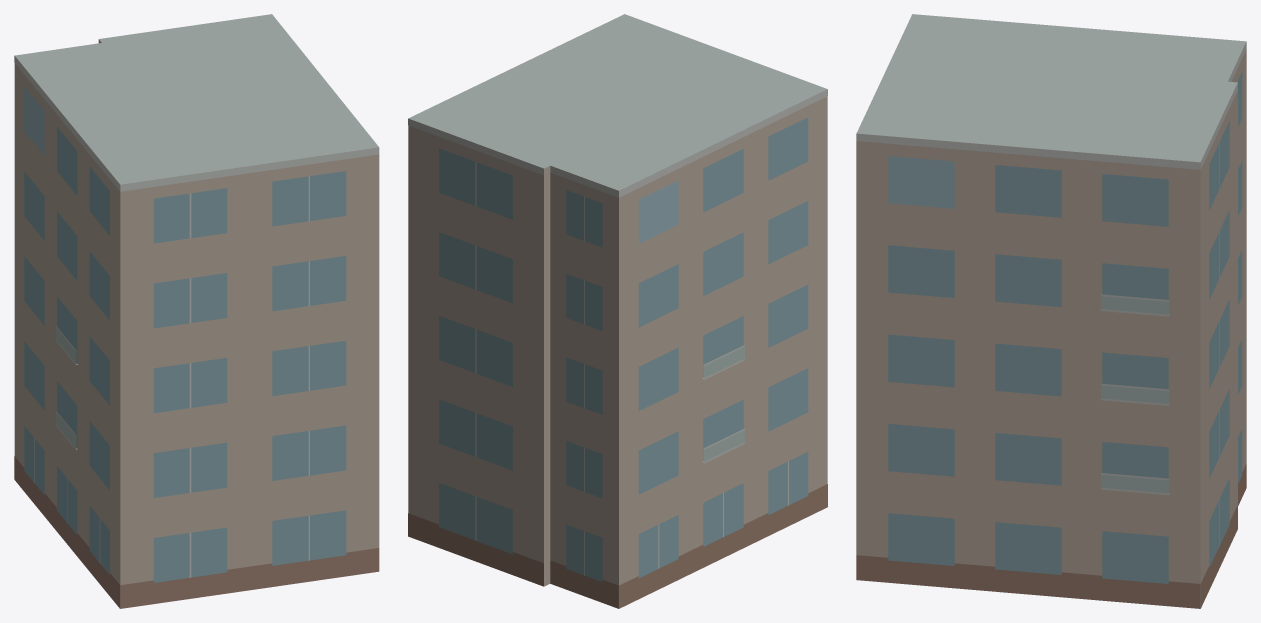
File: survey-upis-32872356.glb
3 views of the same model, side by side, from view 1: azimuth 30°, elevation 25°; view 2: azimuth 150°, elevation 25°; view 3: azimuth 270°, elevation 25° (orthographic). The views are drawn at different scales.
Parts seen in each view (by area): view 1: survey-upis-32872356.tmp; view 2: survey-upis-32872356.tmp; view 3: survey-upis-32872356.tmp.
Part boxes in pixels (left/top/right/bottom): survey-upis-32872356.tmp: left=14, top=14, right=379, bottom=608; survey-upis-32872356.tmp: left=408, top=14, right=827, bottom=608; survey-upis-32872356.tmp: left=856, top=14, right=1246, bottom=608.
Bounding box in the file's own units: 10.45 × 14.65 × 11.61.
